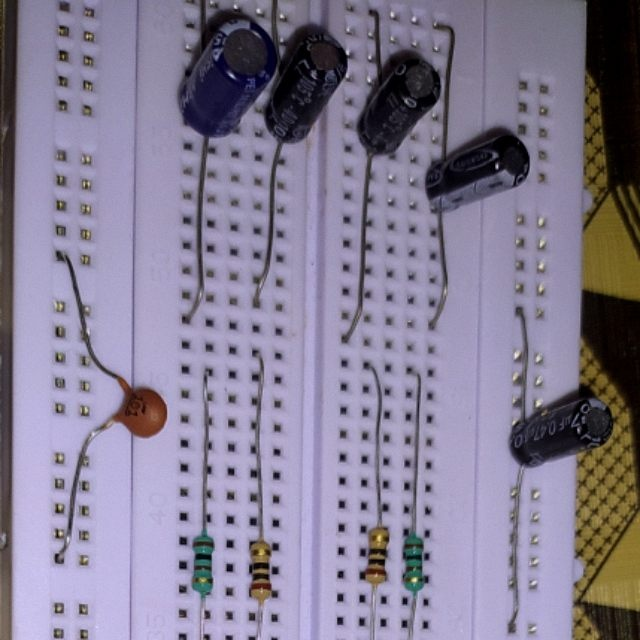capacitor: (174, 17, 276, 139), (266, 31, 350, 144), (360, 56, 440, 163), (425, 136, 530, 213), (510, 398, 613, 466), (104, 376, 166, 438)
resistor: (248, 539, 272, 601), (191, 531, 213, 596), (401, 535, 425, 593), (366, 526, 388, 588)
